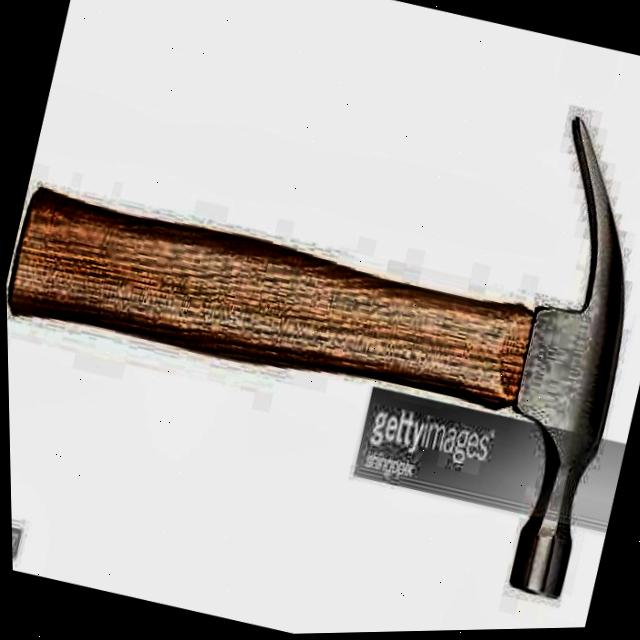hammer: (0, 0, 640, 622)
